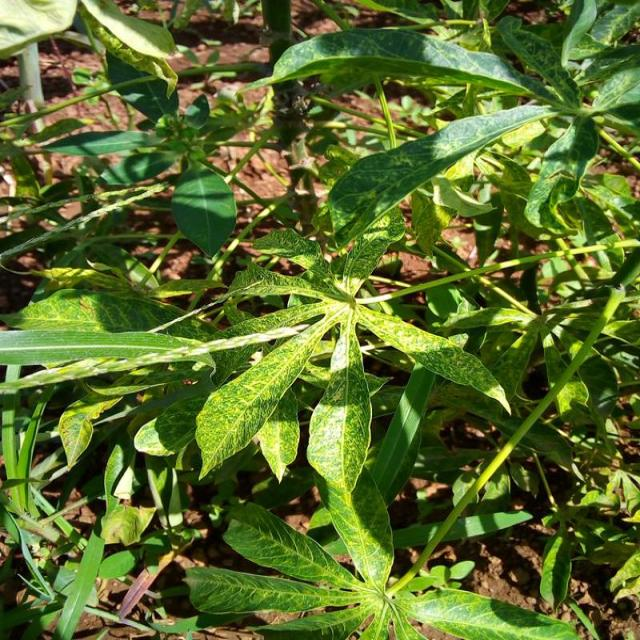cassava leaf: (192, 206, 511, 591), (326, 100, 560, 249), (258, 26, 554, 104), (170, 167, 237, 258)
